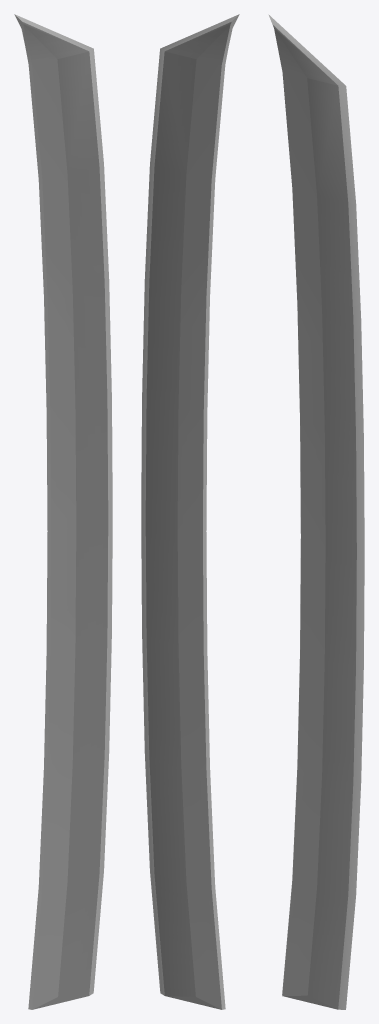
Rendered from stone_blade (18).glb.
3 views of the same model, side by side, from view 1: azimuth 30°, elevation 25°; view 2: azimuth 150°, elevation 25°; view 3: azimuth 330°, elevation 25° (orthographic). The views are drawn at different scales.
Parts seen in each view (by area): view 1: stone_blade_unscratched.038; view 2: stone_blade_unscratched.038; view 3: stone_blade_unscratched.038.
Boxes of the visible parts, x1,y1,x2,y2 form: stone_blade_unscratched.038: (14, 14, 112, 1009); stone_blade_unscratched.038: (141, 14, 239, 1009); stone_blade_unscratched.038: (268, 14, 364, 1009).
Bounding box in the file's own units: 1.22 × 11.77 × 0.0749.
Materials: 1 (1 with a texture image).
